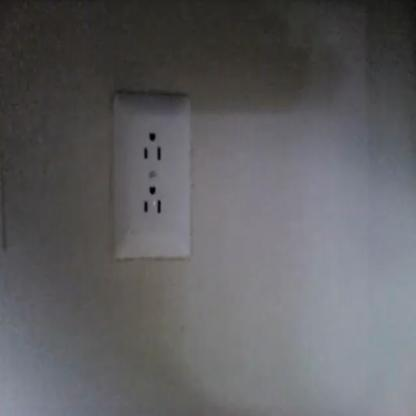OUTLET: (112, 90, 192, 260)
